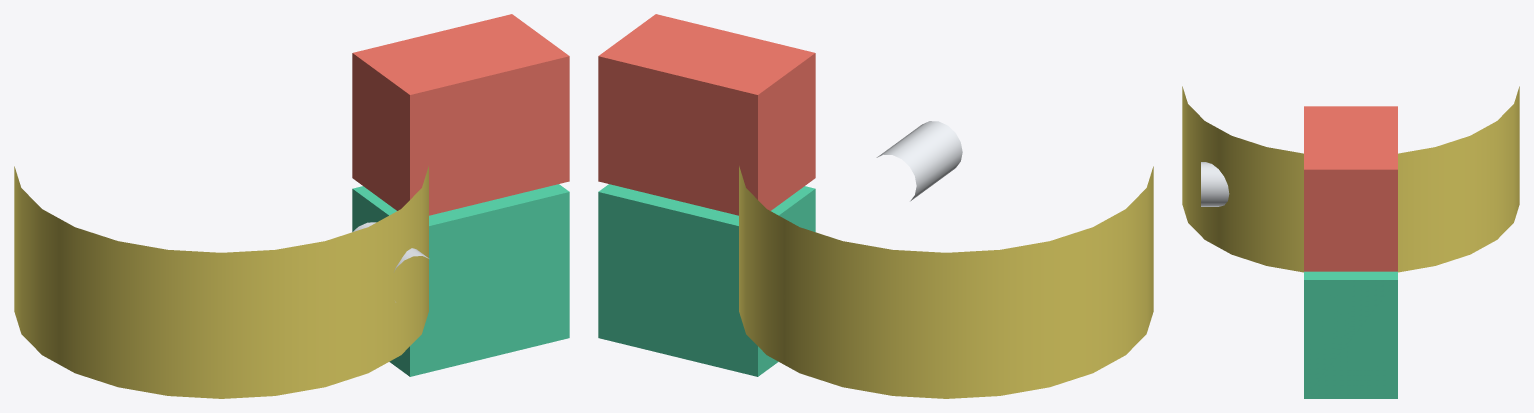
The model's file is optical_fiber_link_attenuation.glb.
The picture shows the model from 3 angles, left to right: view 1: azimuth 30°, elevation 25°; view 2: azimuth 150°, elevation 25°; view 3: azimuth 270°, elevation 25°; orthographic projection. The views are drawn at different scales.
Visible parts, largest first — view 1: FiberSpoolCoreCladding, LaserDiodeTransmitterSource, OpticalPowerMeterReceiver; view 2: FiberSpoolCoreCladding, LaserDiodeTransmitterSource, OpticalPowerMeterReceiver, STFiberConnectorCoupler; view 3: FiberSpoolCoreCladding, LaserDiodeTransmitterSource, OpticalPowerMeterReceiver, STFiberConnectorCoupler.
Part boxes in pixels (bbox=[...]): FiberSpoolCoreCladding: bbox=[14, 166, 428, 398]; LaserDiodeTransmitterSource: bbox=[352, 14, 569, 215]; OpticalPowerMeterReceiver: bbox=[352, 184, 569, 376]; FiberSpoolCoreCladding: bbox=[739, 166, 1153, 398]; LaserDiodeTransmitterSource: bbox=[598, 14, 815, 215]; OpticalPowerMeterReceiver: bbox=[598, 184, 815, 376]; STFiberConnectorCoupler: bbox=[876, 121, 962, 201]; FiberSpoolCoreCladding: bbox=[1182, 86, 1519, 272]; LaserDiodeTransmitterSource: bbox=[1304, 106, 1397, 271]; OpticalPowerMeterReceiver: bbox=[1304, 271, 1397, 398]; STFiberConnectorCoupler: bbox=[1201, 162, 1229, 206].
Bounding box in the file's own units: 1.25 × 0.675 × 0.9.
